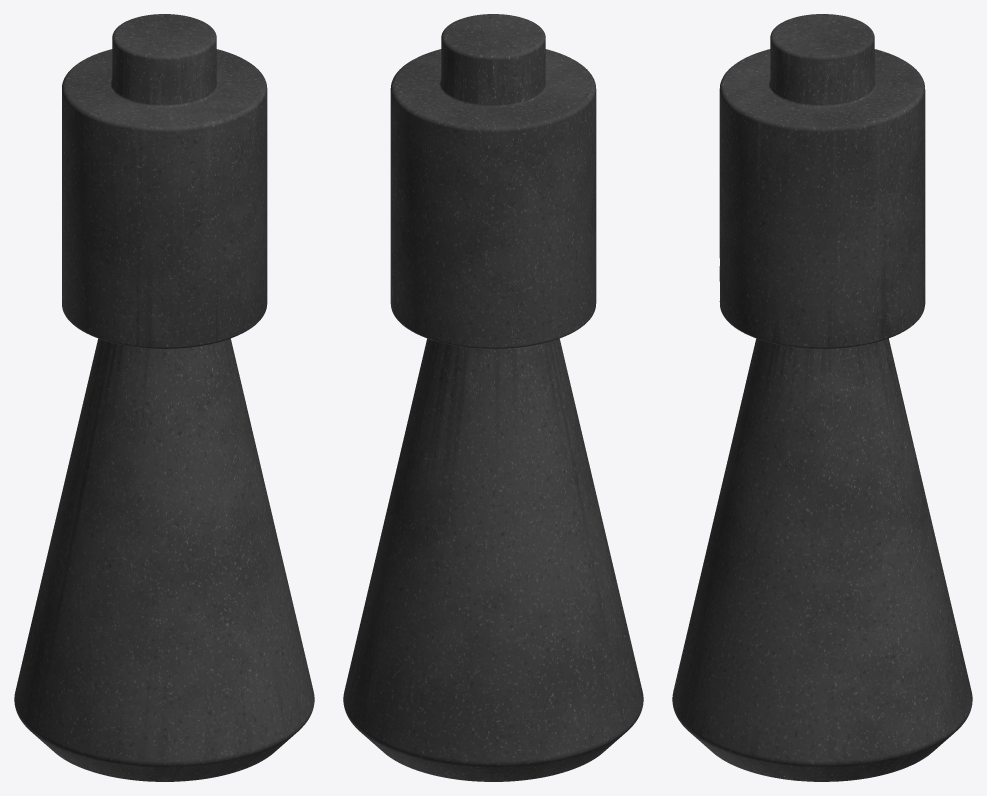
Rendered from king-black-hd.glb.
3 renders of one model, left to right at view 1: azimuth 30°, elevation 25°; view 2: azimuth 150°, elevation 25°; view 3: azimuth 270°, elevation 25°, orthographic.
Parts seen in each view (by area): view 1: 04_kral_cerna; view 2: 04_kral_cerna; view 3: 04_kral_cerna.
Part boxes in pixels (box(x1,y1,x2,y2)): 04_kral_cerna: box(14, 14, 314, 781); 04_kral_cerna: box(343, 14, 643, 781); 04_kral_cerna: box(672, 14, 972, 781).
Bounding box in the file's own units: 0.6173 × 1.58 × 0.6173.
1 material, 1 textured.
